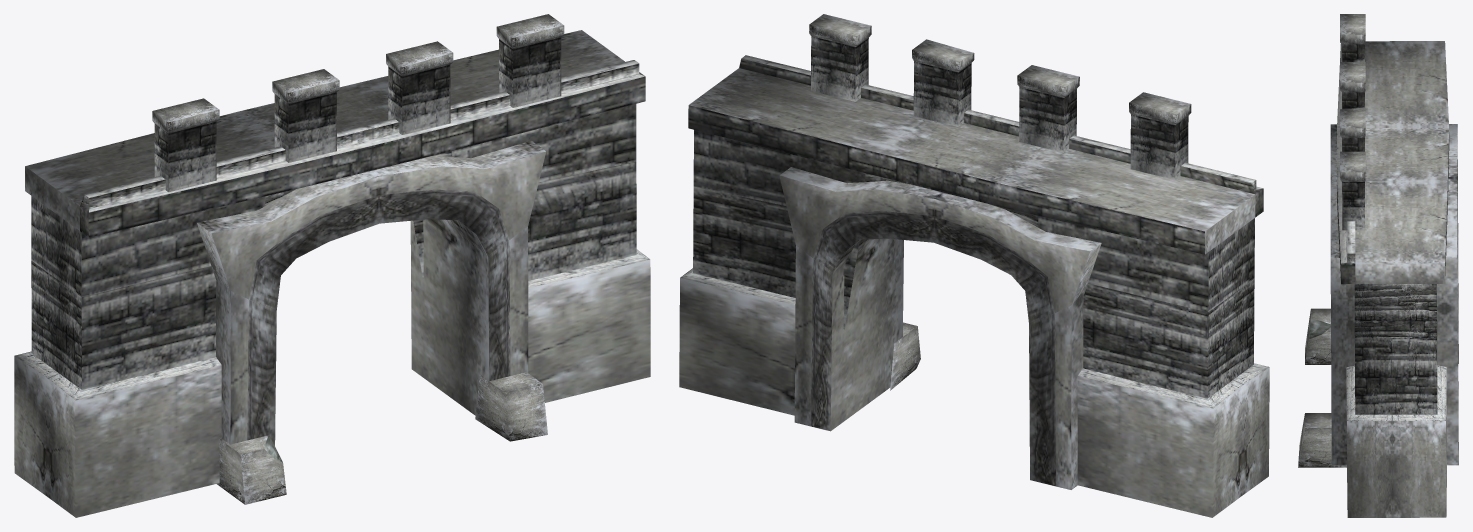
The model's file is S_Build_Snowland042.FBX.
3 views of the same model, side by side, from view 1: azimuth 30°, elevation 25°; view 2: azimuth 150°, elevation 25°; view 3: azimuth 270°, elevation 25° (orthographic). The views are drawn at different scales.
Parts seen in each view (by area): view 1: S_Build_Snowland042; view 2: S_Build_Snowland042; view 3: S_Build_Snowland042.
Part boxes in pixels (x1,y1,x2,y2): S_Build_Snowland042: (14,14,650,517); S_Build_Snowland042: (679,14,1269,517); S_Build_Snowland042: (1298,14,1458,517).
Size of the model in its own units: 1199 by 353 by 757.
